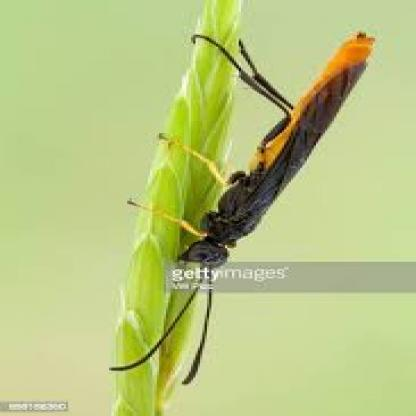sawfly: (107, 23, 376, 382)
